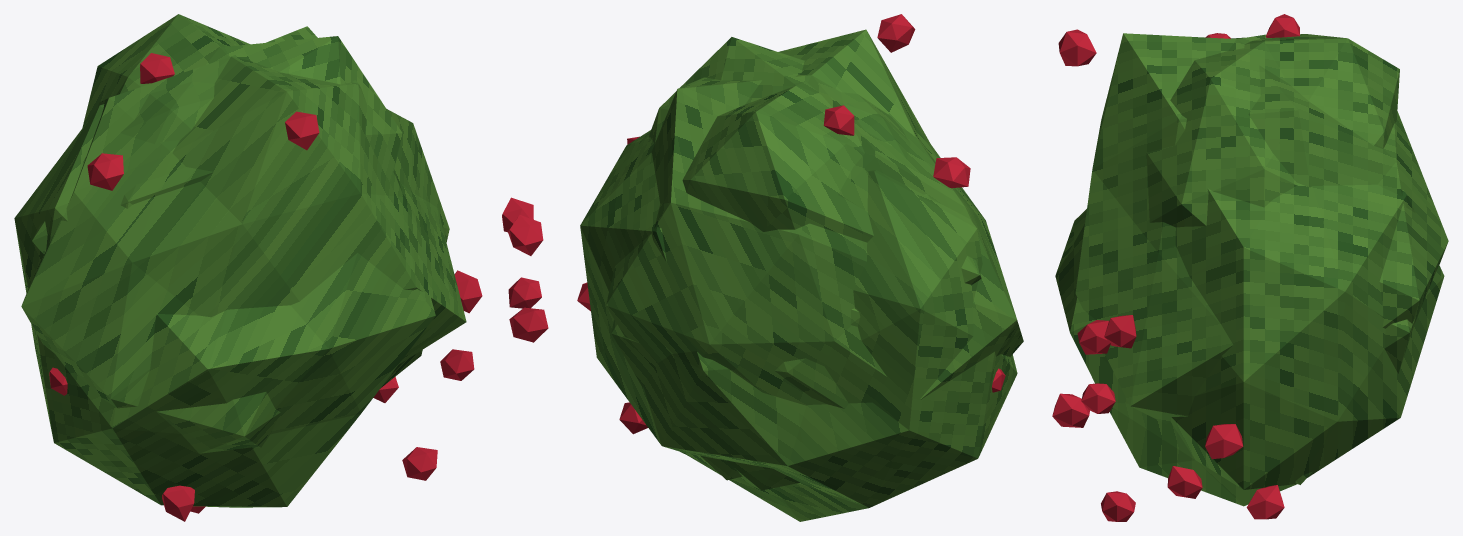
The model's file is bush_berry.glb.
3 views of the same model, side by side, from view 1: azimuth 30°, elevation 25°; view 2: azimuth 150°, elevation 25°; view 3: azimuth 270°, elevation 25° (orthographic). The views are drawn at different scales.
Visible parts, largest first — view 1: leaves, berries; view 2: leaves, berries; view 3: leaves, berries.
Boxes of the visible parts, x1,y1,x2,y2 form: leaves: (14,14,466,507); berries: (49,53,548,521); leaves: (580,29,1023,521); berries: (577,14,1005,434); leaves: (1055,33,1448,506); berries: (1052,14,1299,521).
Size of the model in its own units: 1.14 by 1.1 by 0.8431.
Materials: 2 (1 with a texture image).
